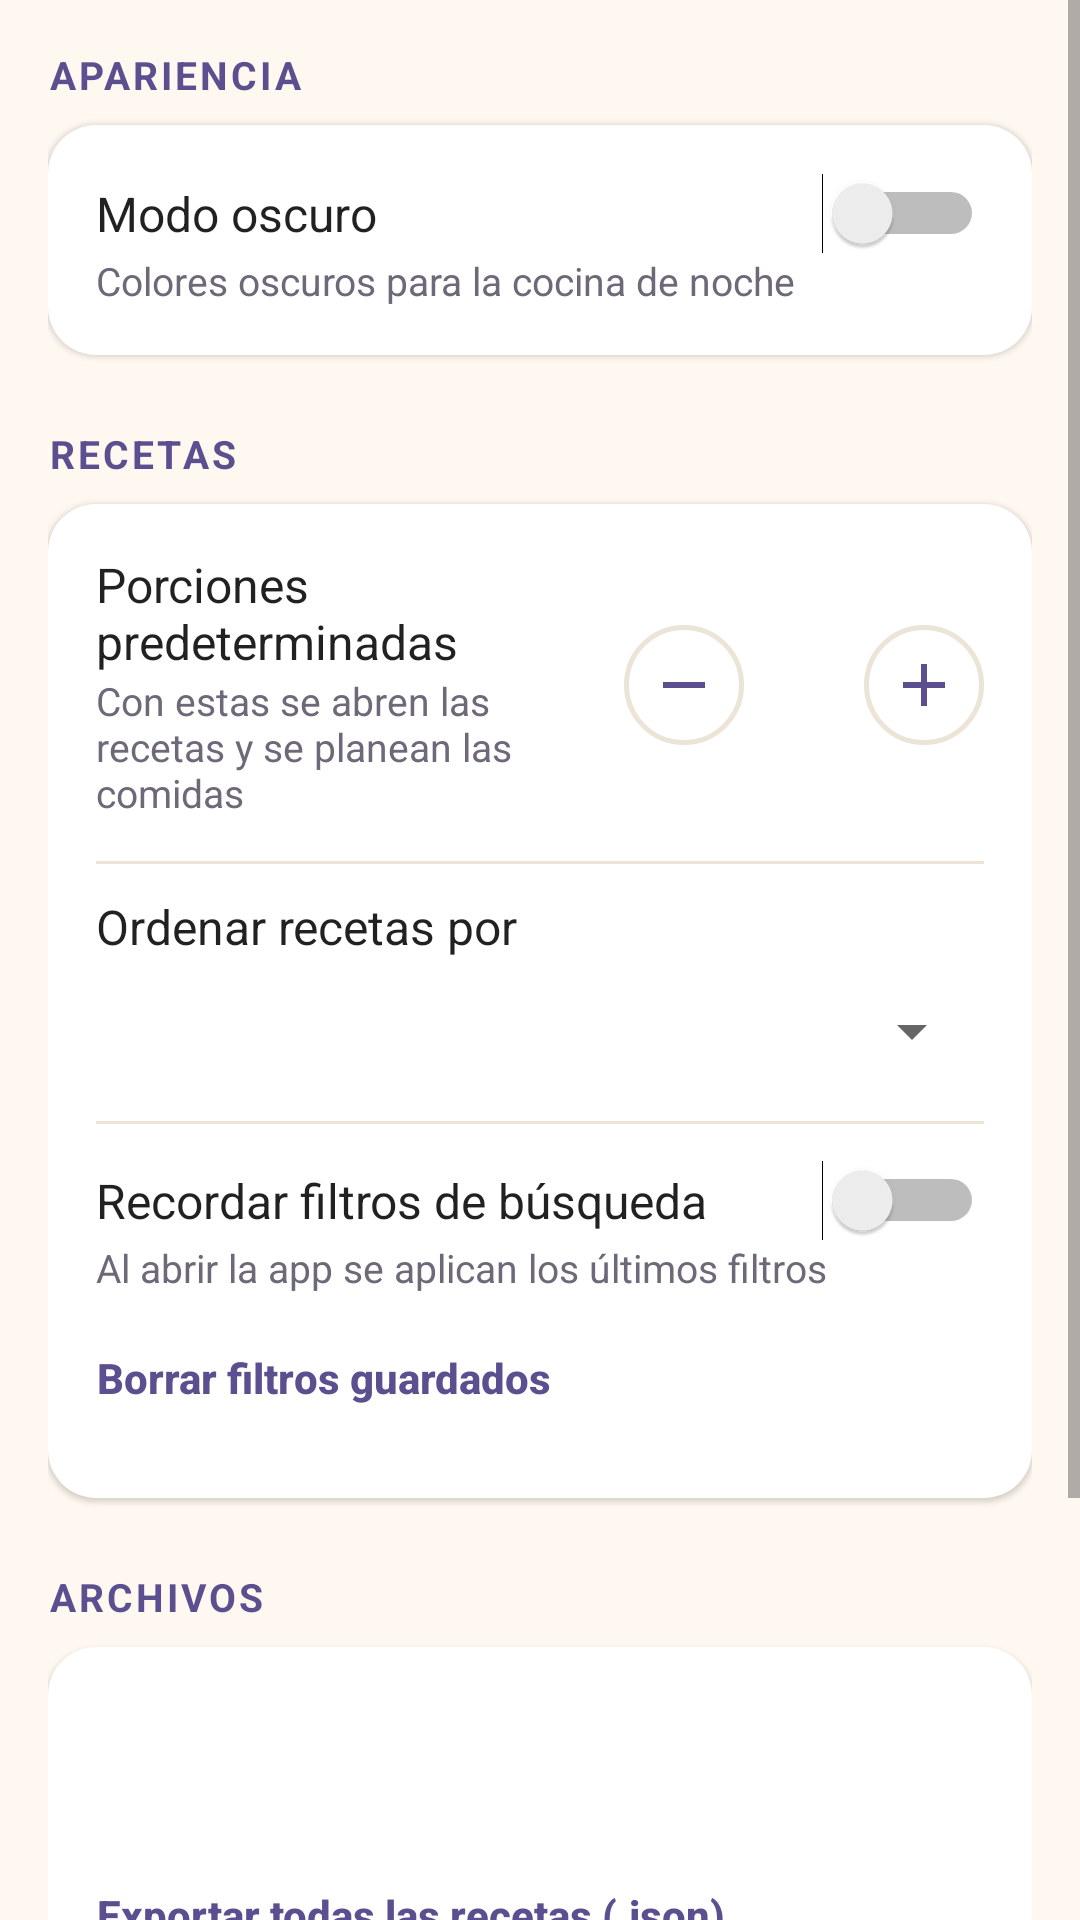

Icons on this 1080×1920 Android screen, each with its box as (x1,y1,x2,y2):
Menos porciones: (624,625,744,745)
Más porciones: (864,625,984,745)
